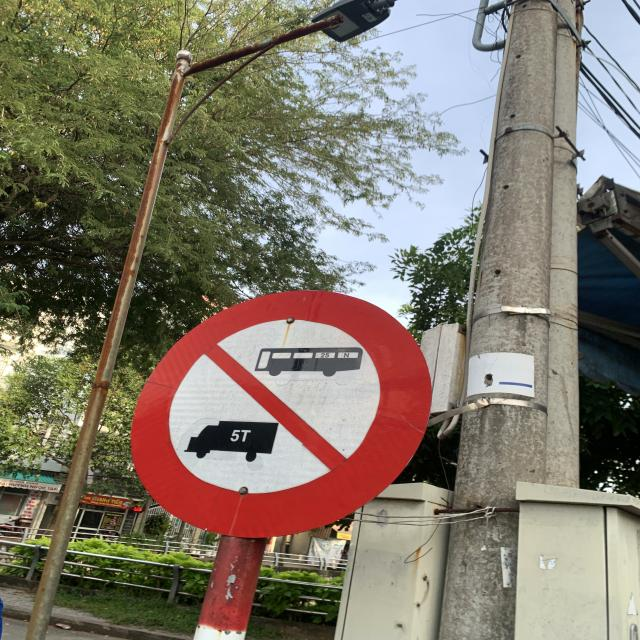Cam_XeTai_XeKhach: (130, 290, 438, 536)
